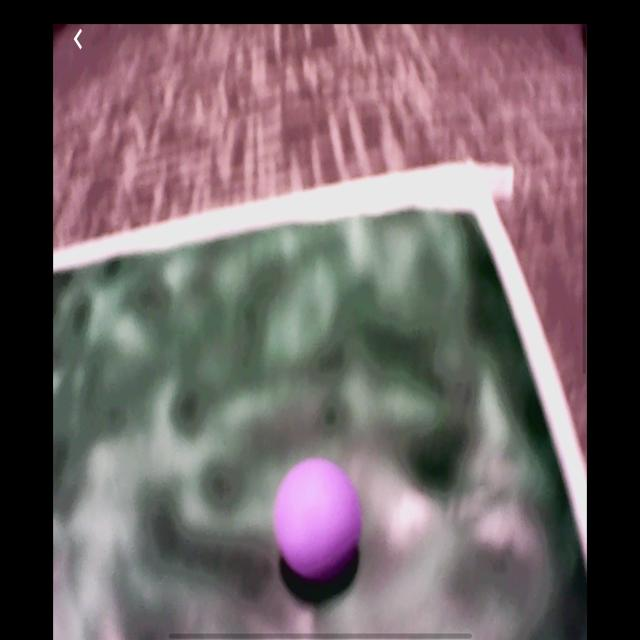ball: (275, 457, 361, 580)
